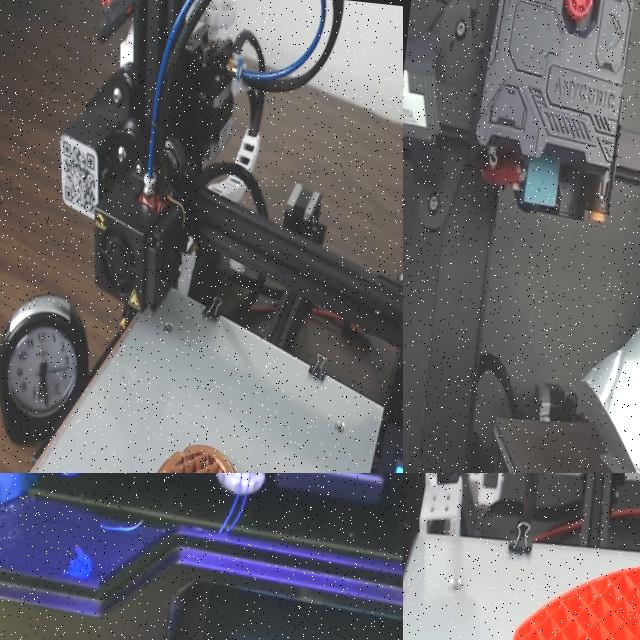spaghetti: (49, 537, 114, 591)
